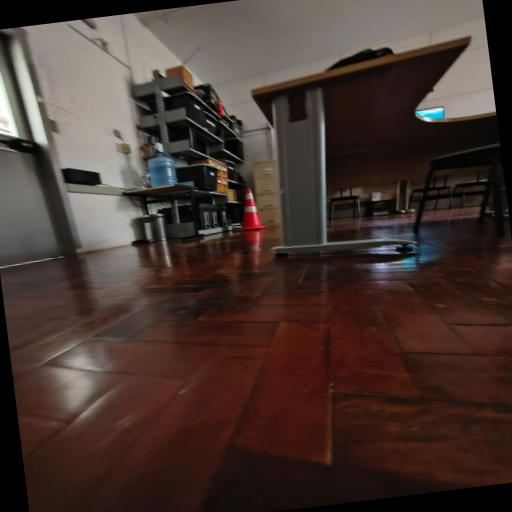cone: (234, 187, 263, 232)
